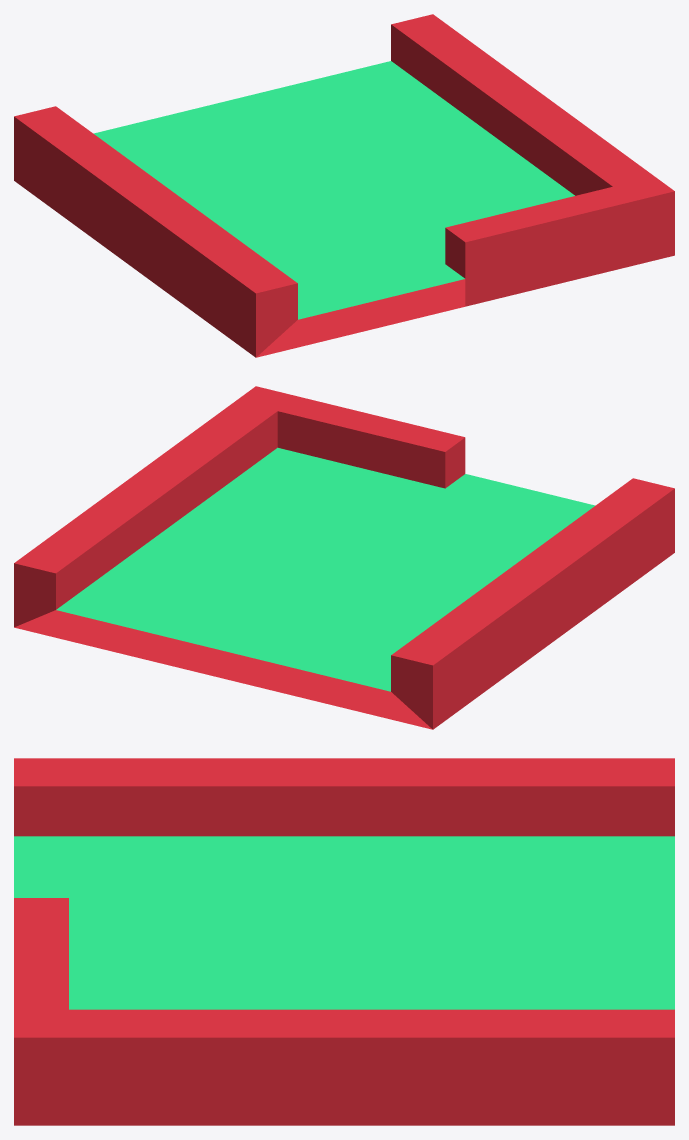
Rendered from wallRight.fbx.
3 renders of one model, top to bottom at view 1: azimuth 30°, elevation 25°; view 2: azimuth 150°, elevation 25°; view 3: azimuth 270°, elevation 25°, orthographic. The views are drawn at different scales.
Parts seen in each view (by area): view 1: wallRight; view 2: wallRight; view 3: wallRight.
Boxes of the visible parts, left/top/right/bottom form: wallRight: left=14, top=14, right=674, bottom=357; wallRight: left=14, top=386, right=674, bottom=729; wallRight: left=14, top=758, right=674, bottom=1125.
Size of the model in its own units: 99.99 by 99.99 by 14.67.
